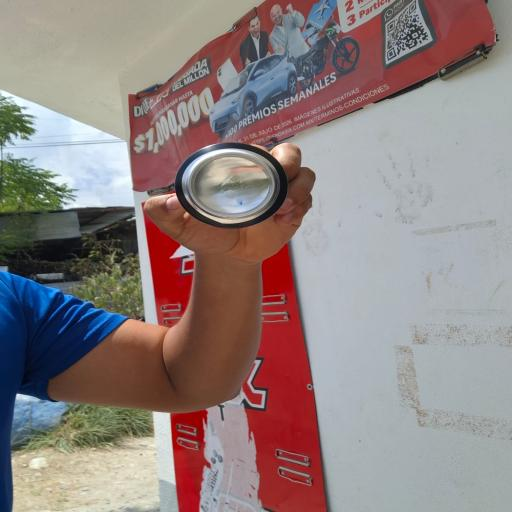LATA: (164, 136, 296, 240)
